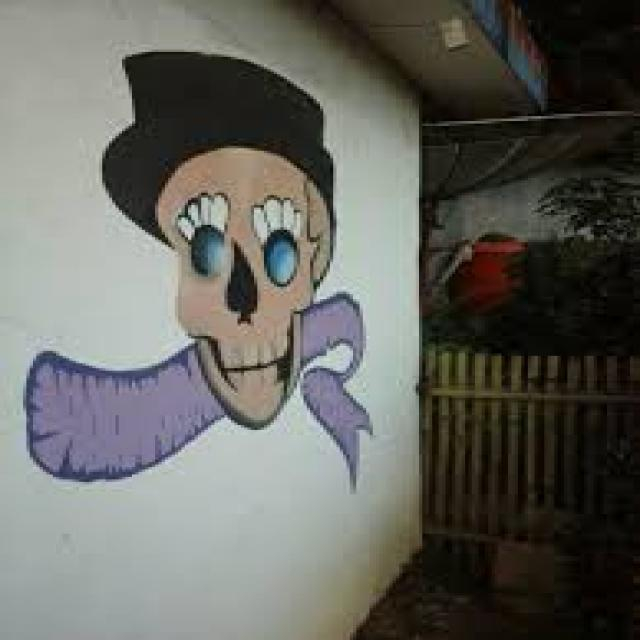-: (22, 46, 374, 494)
